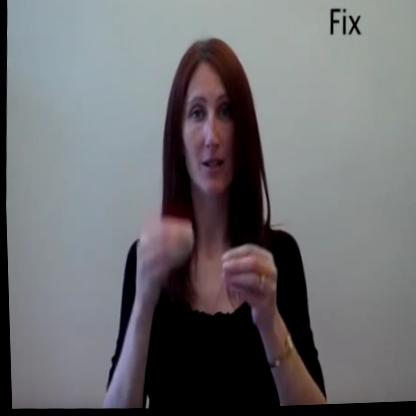Fix: (114, 200, 280, 359)
